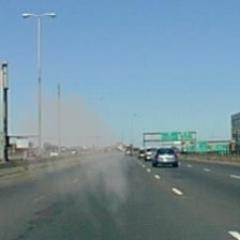smoke: (2, 79, 150, 236)
